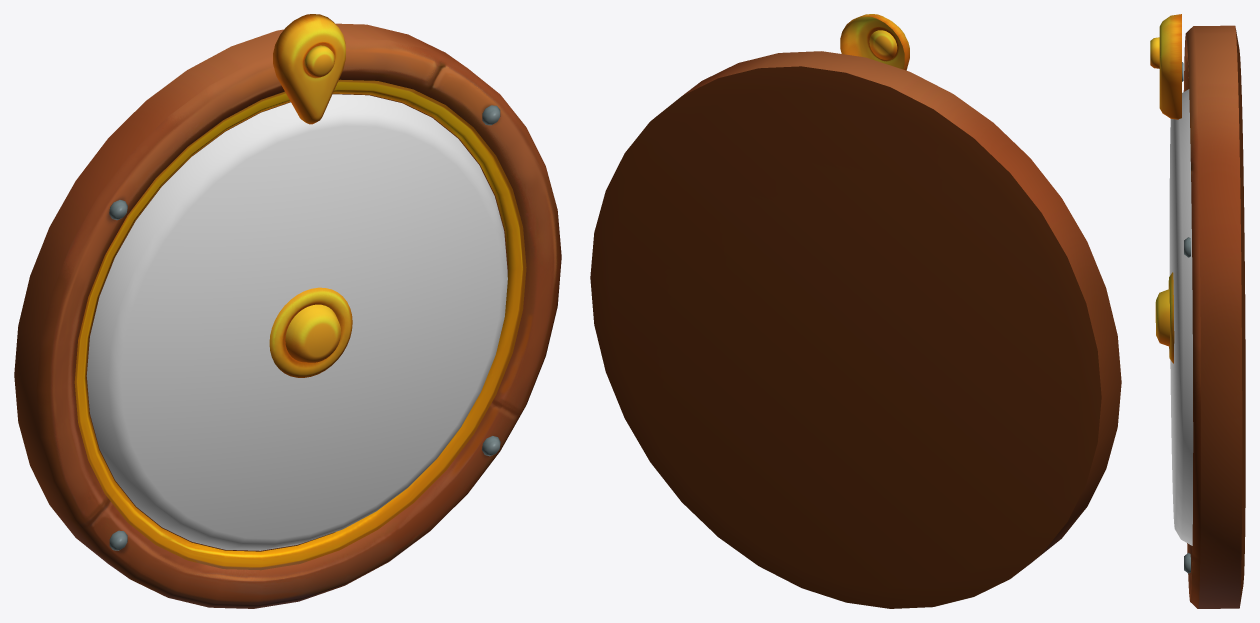
File: Dart_Board.fbx
3 views of the same model, side by side, from view 1: azimuth 30°, elevation 25°; view 2: azimuth 150°, elevation 25°; view 3: azimuth 270°, elevation 25° (orthographic). The views are drawn at different scales.
Parts seen in each view (by area): view 1: Dart_Board_Full, Dart_Board_Frame, Dart_Board_Pin; view 2: Dart_Board_Frame, Dart_Board_Pin; view 3: Dart_Board_Frame, Dart_Board_Full, Dart_Board_Pin.
Part boxes in pixels (x1,y1,x2,y2): Dart_Board_Full: [86, 94, 507, 550]; Dart_Board_Frame: [14, 23, 561, 608]; Dart_Board_Pin: [273, 14, 345, 124]; Dart_Board_Frame: [590, 51, 1121, 608]; Dart_Board_Pin: [840, 14, 909, 70]; Dart_Board_Frame: [1155, 25, 1245, 608]; Dart_Board_Full: [1169, 89, 1193, 545]; Dart_Board_Pin: [1150, 14, 1181, 119].
Bounding box in the file's own units: 283 × 301 × 46.15.
